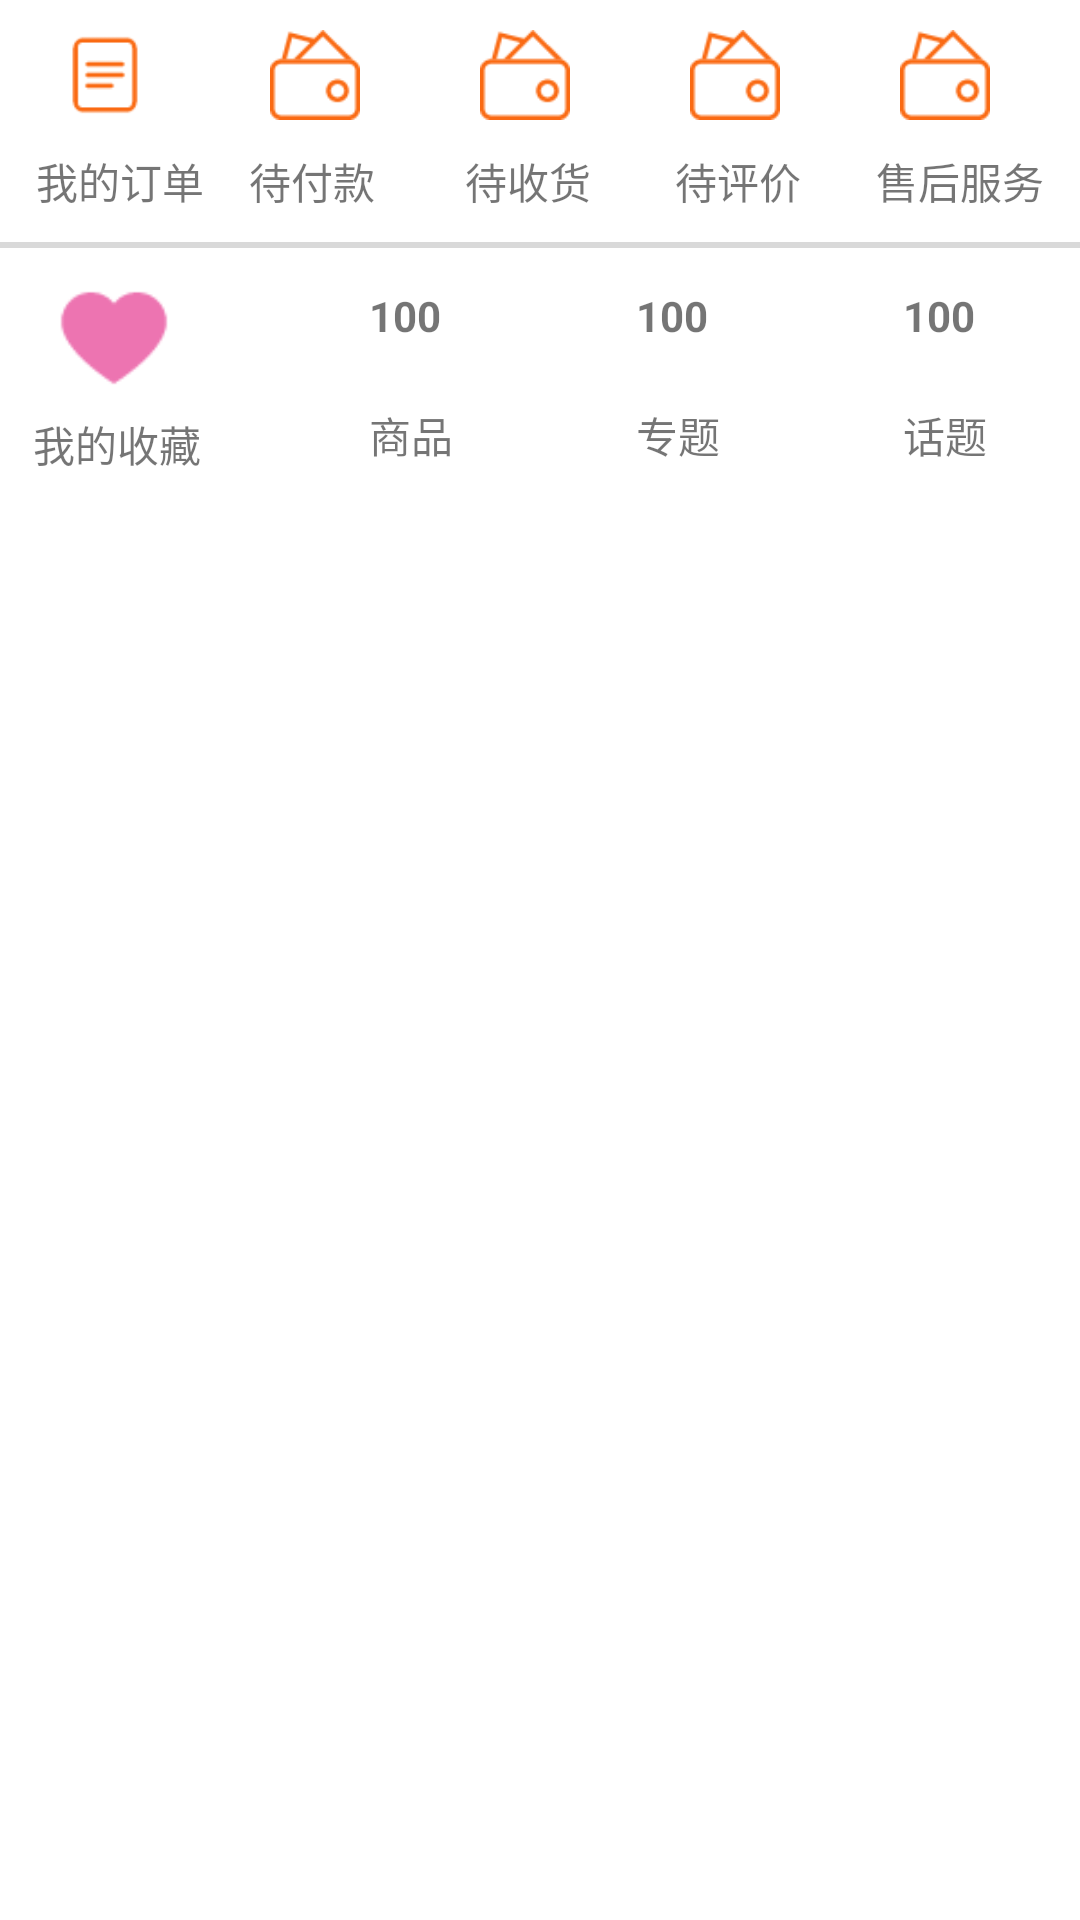

Named icons in this screenshot (1080px×1920px) and their bounding boxes, (x1=x1, y1=y1, x2=x2, y2=y2):
form select: (x1=72, y1=37, x2=138, y2=113)
xin select: (x1=61, y1=292, x2=167, y2=384)
